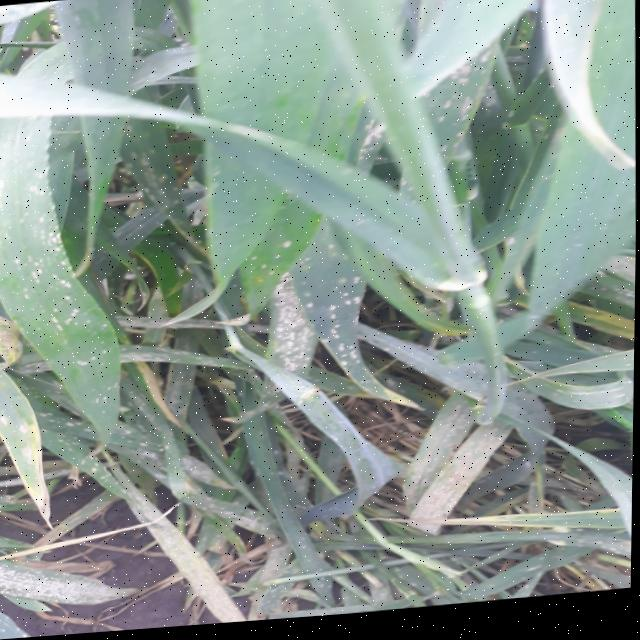powder_mildew: (0, 44, 323, 640), (275, 226, 637, 497), (319, 15, 638, 216), (308, 479, 625, 622)
